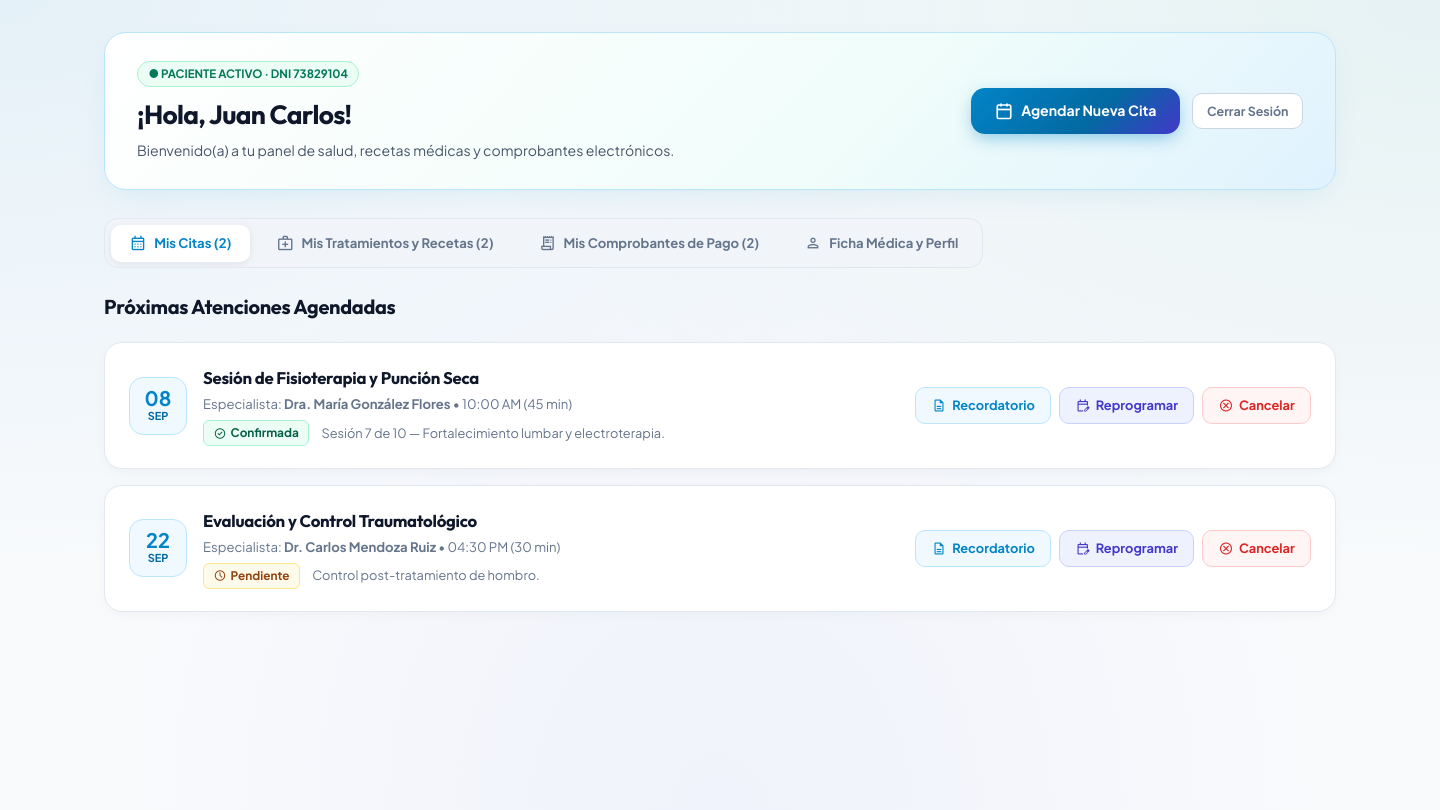
Test: PatientPortal Component › opens Reschedule modal when clicking Reprogramar and updates appointment
Note: Click the first one
Click the button "Reprogramar" in the row of "45 min": (1127, 406) [1059,388,1194,424]
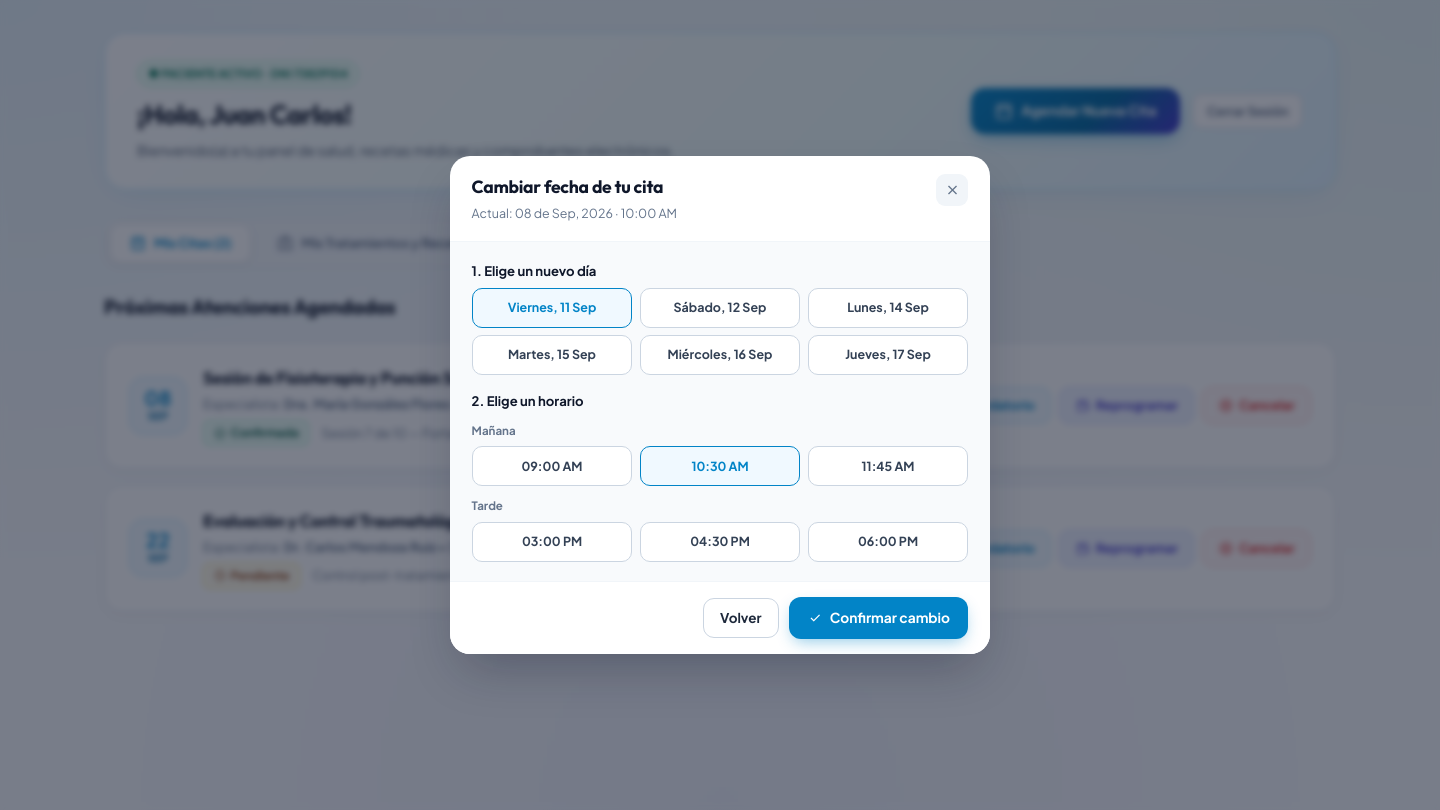
Check: the dialog named "Cambiar fecha de cita" is shown
Check: the heading "Cambiar fecha de tu cita" is shown, box [472,174,677,201]
Note: Confirm reschedule
Click the button "Confirmar cambio": (879, 618) [789,597,968,639]
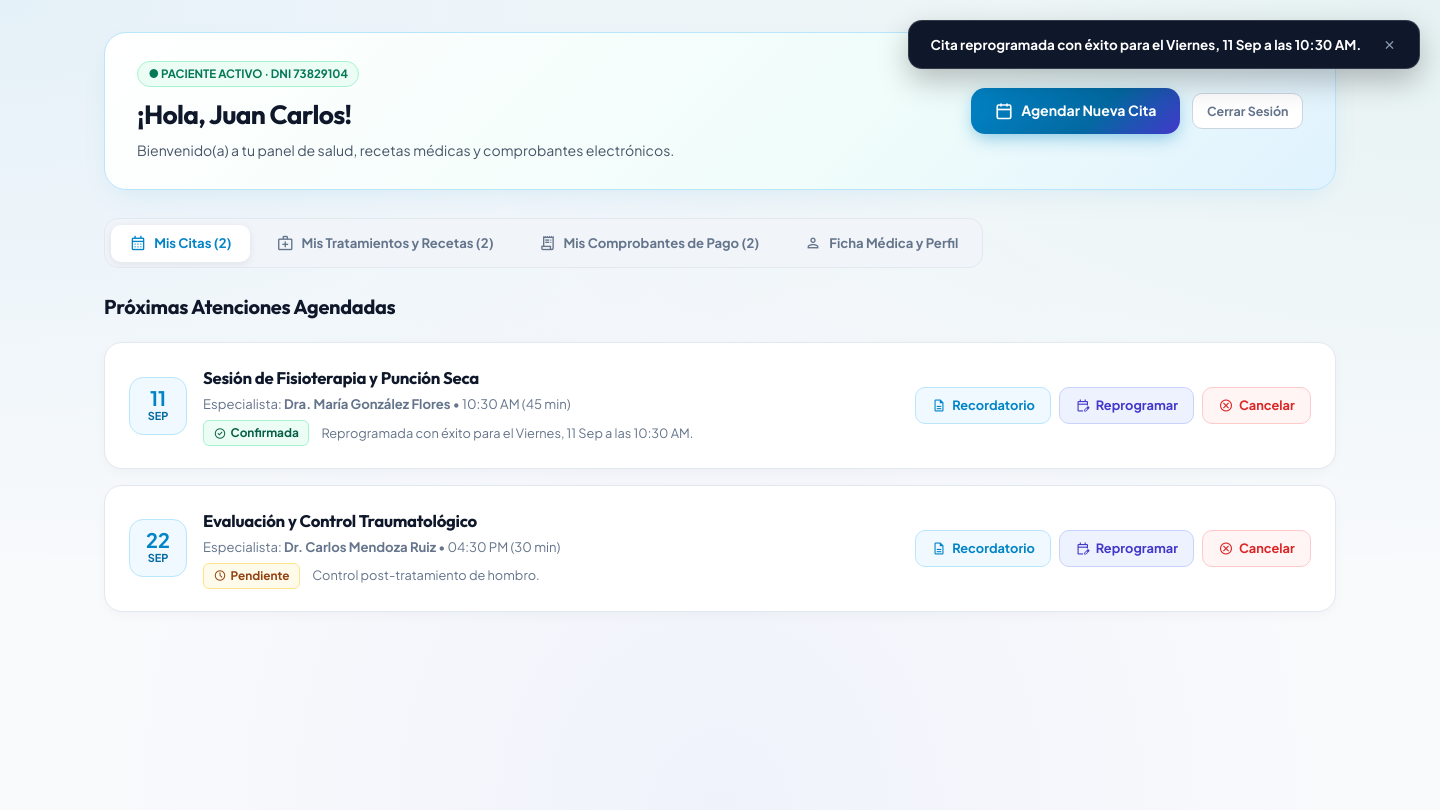
Check: the text "Cita reprogramada con éxito" is shown, box [931,36,1361,53]
